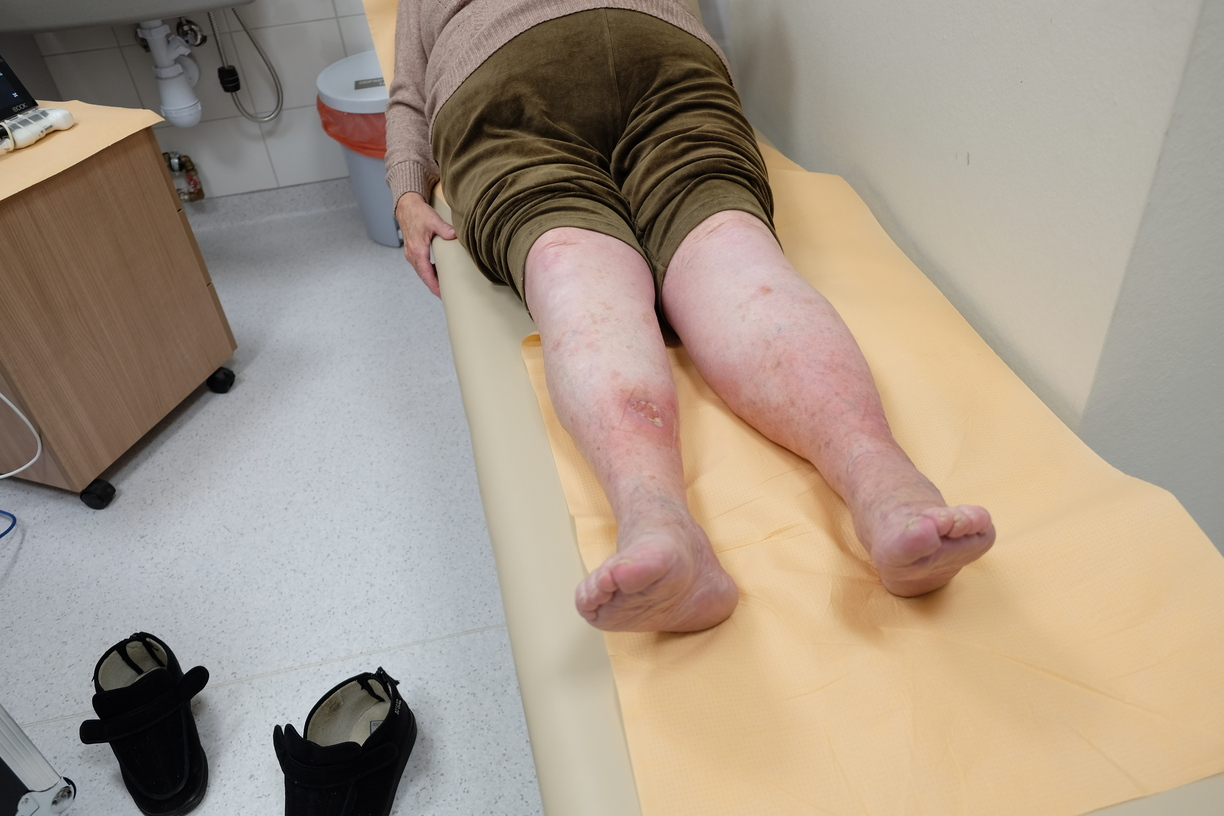wound: (622, 390, 668, 428)
